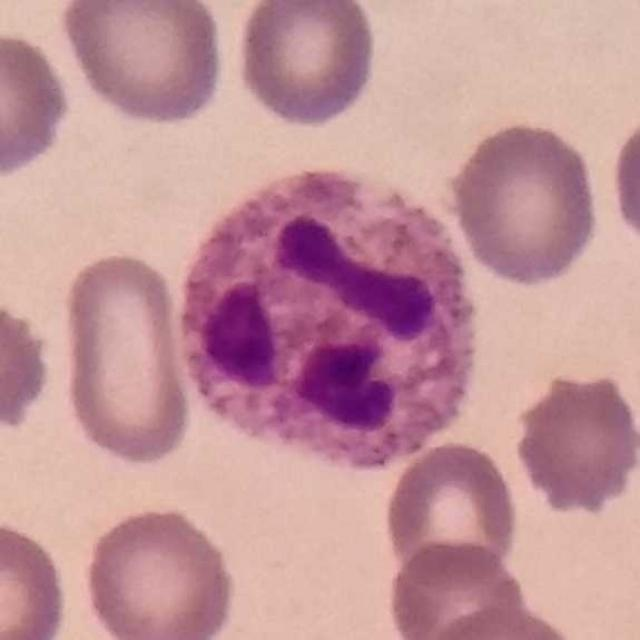Neutrophil: (162, 156, 496, 493)
RBC: (56, 247, 197, 470), (444, 117, 604, 289), (54, 0, 230, 129), (78, 501, 241, 640), (380, 438, 522, 586), (508, 364, 640, 520), (231, 0, 382, 130), (382, 537, 525, 640), (0, 24, 76, 184), (0, 516, 72, 639), (0, 290, 57, 440), (415, 603, 586, 640), (605, 101, 640, 263)
